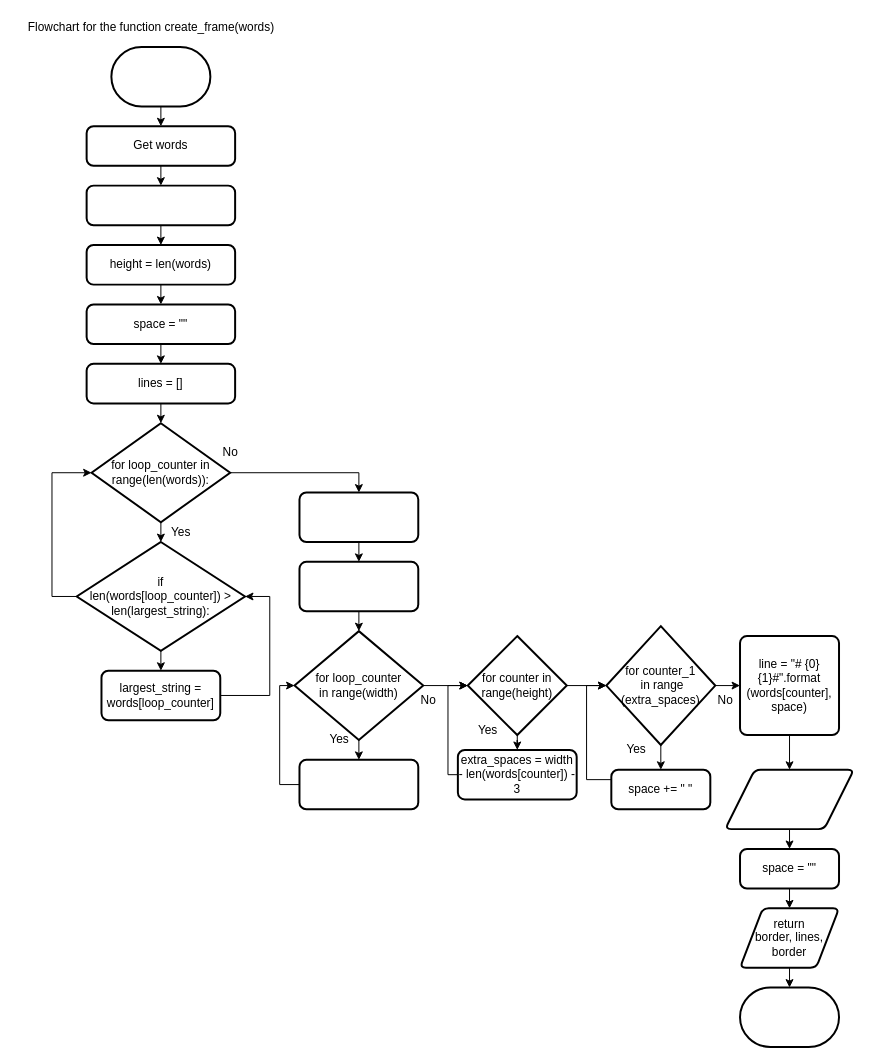
Some shapes in this 871 by 1064 pixel diagram are drawn without their labels. The centre of each missing label's shape, as x and y in pixels:
border += "#": pixel 358 784
border = "": pixel 358 586
largest_string = words[0]: pixel 160 205
lines.append(line): pixel 789 799
Start: pixel 160 76
Stop: pixel 789 1016
width = len(largest_string) + 4: pixel 358 517
